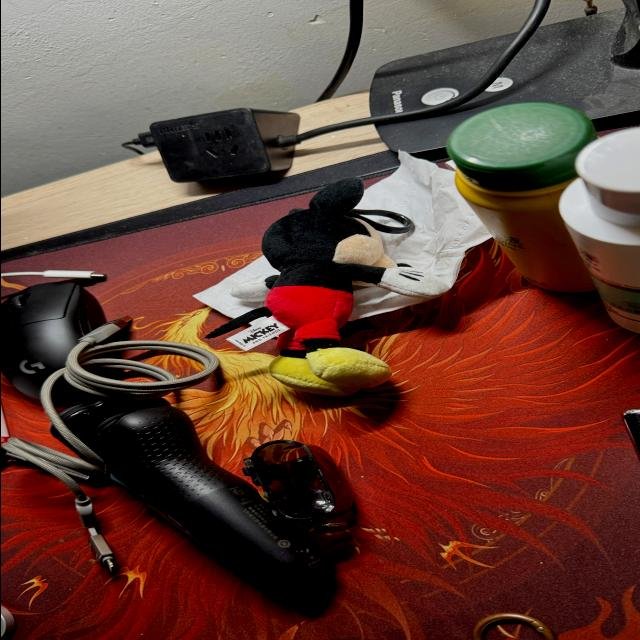mickey: (205, 179, 448, 395)
